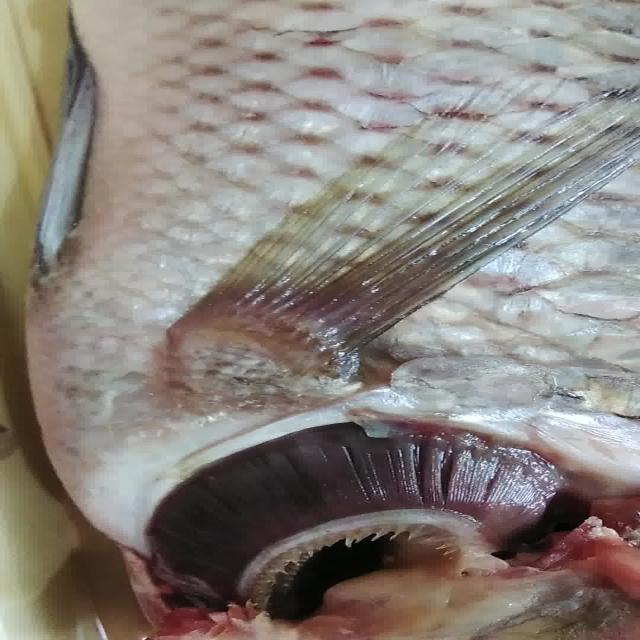Non-Fresh: (106, 412, 588, 628)
